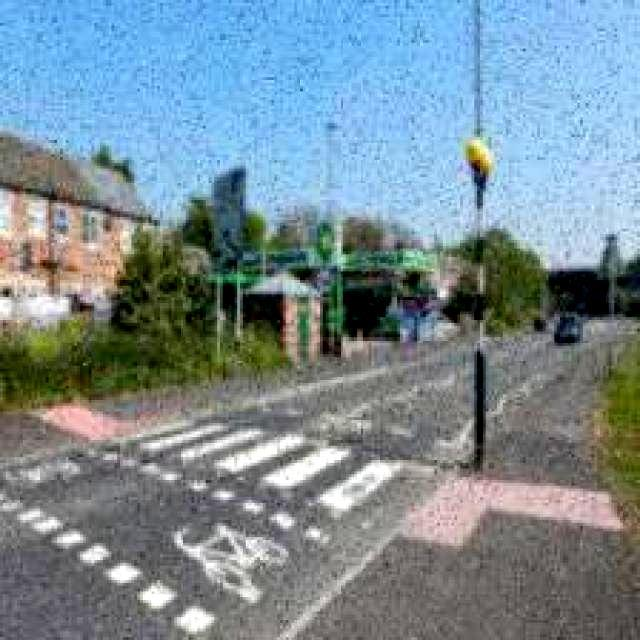crosswalk: (131, 408, 414, 557)
